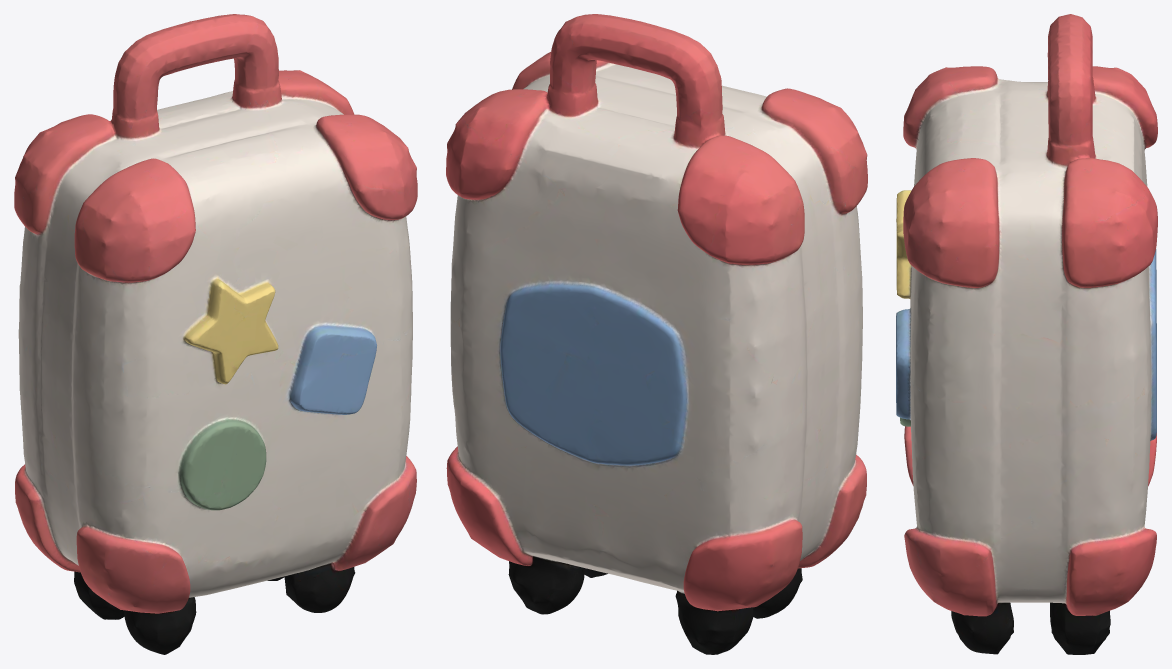
File: suitcase.glb
3 renders of one model, left to right at view 1: azimuth 30°, elevation 25°; view 2: azimuth 150°, elevation 25°; view 3: azimuth 270°, elevation 25°, orthographic. The views are drawn at different scales.
Size of the model in its own units: 1.12 by 1.9 by 0.7789.
Materials: 1 (1 with a texture image).
